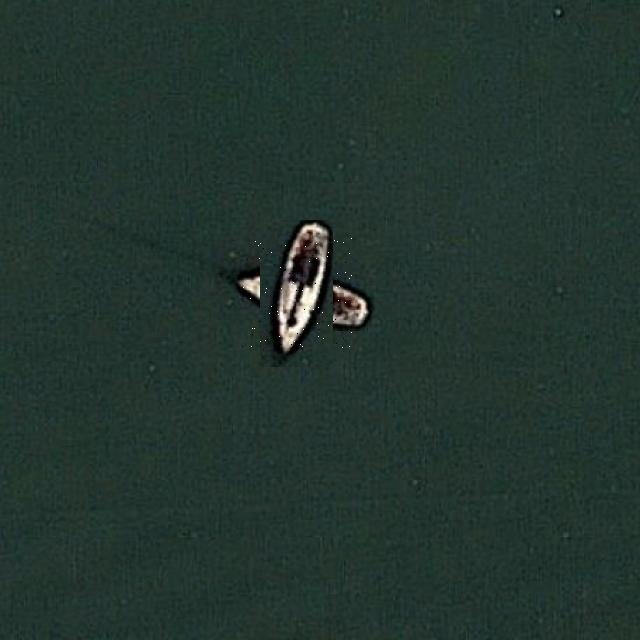boat: (242, 238, 352, 349)
